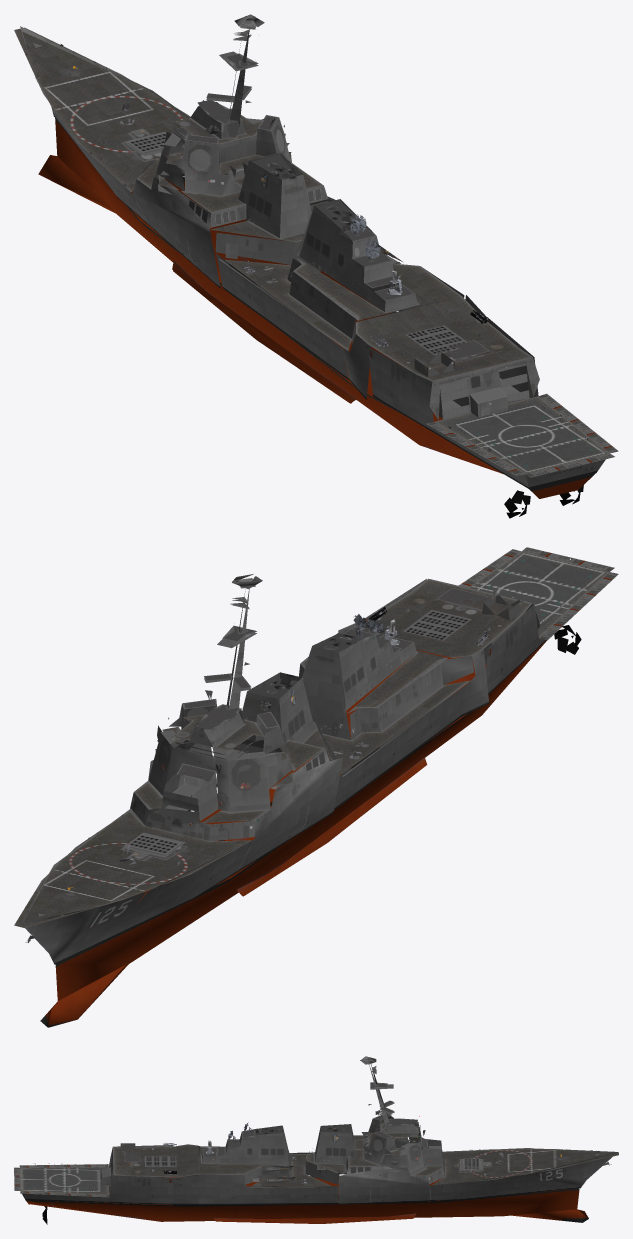
3 views of the same model, one above another, from view 1: azimuth 30°, elevation 25°; view 2: azimuth 150°, elevation 25°; view 3: azimuth 270°, elevation 25° (orthographic). The views are drawn at different scales.
Parts seen in each view (by area): view 1: BurkeSource_Object_10.001, BurkeSource_Object_11.001; view 2: BurkeSource_Object_10.001, BurkeSource_Object_11.001; view 3: BurkeSource_Object_10.001, BurkeSource_Object_11.001.
Boxes of the visible parts, x1=… form: BurkeSource_Object_10.001: x1=14, y1=14, x2=609, y2=498; BurkeSource_Object_11.001: x1=426, y1=373, x2=618, y2=477; BurkeSource_Object_10.001: x1=14, y1=551, x2=609, y2=1027; BurkeSource_Object_11.001: x1=459, y1=547, x2=618, y2=640; BurkeSource_Object_10.001: x1=19, y1=1056, x2=618, y2=1223; BurkeSource_Object_11.001: x1=14, y1=1152, x2=112, y2=1197.
Bounding box in the file's own units: 21.98 × 45.42 × 155.
Materials: 12 (6 with a texture image).
